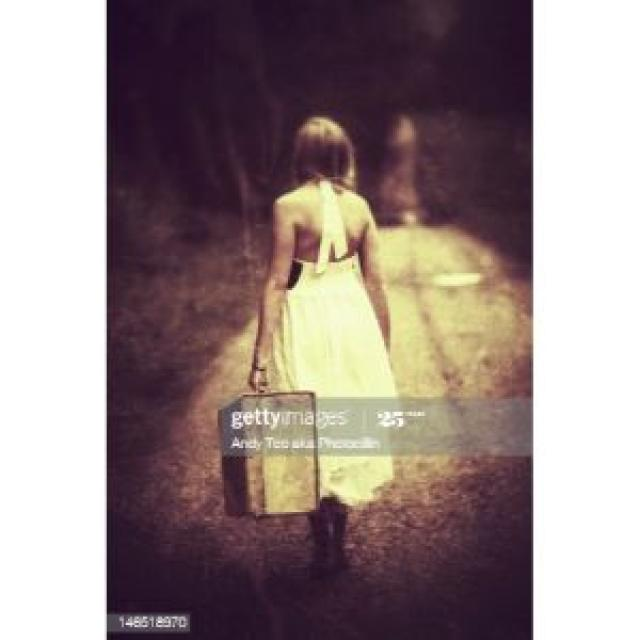nonfall: (232, 104, 429, 541)
